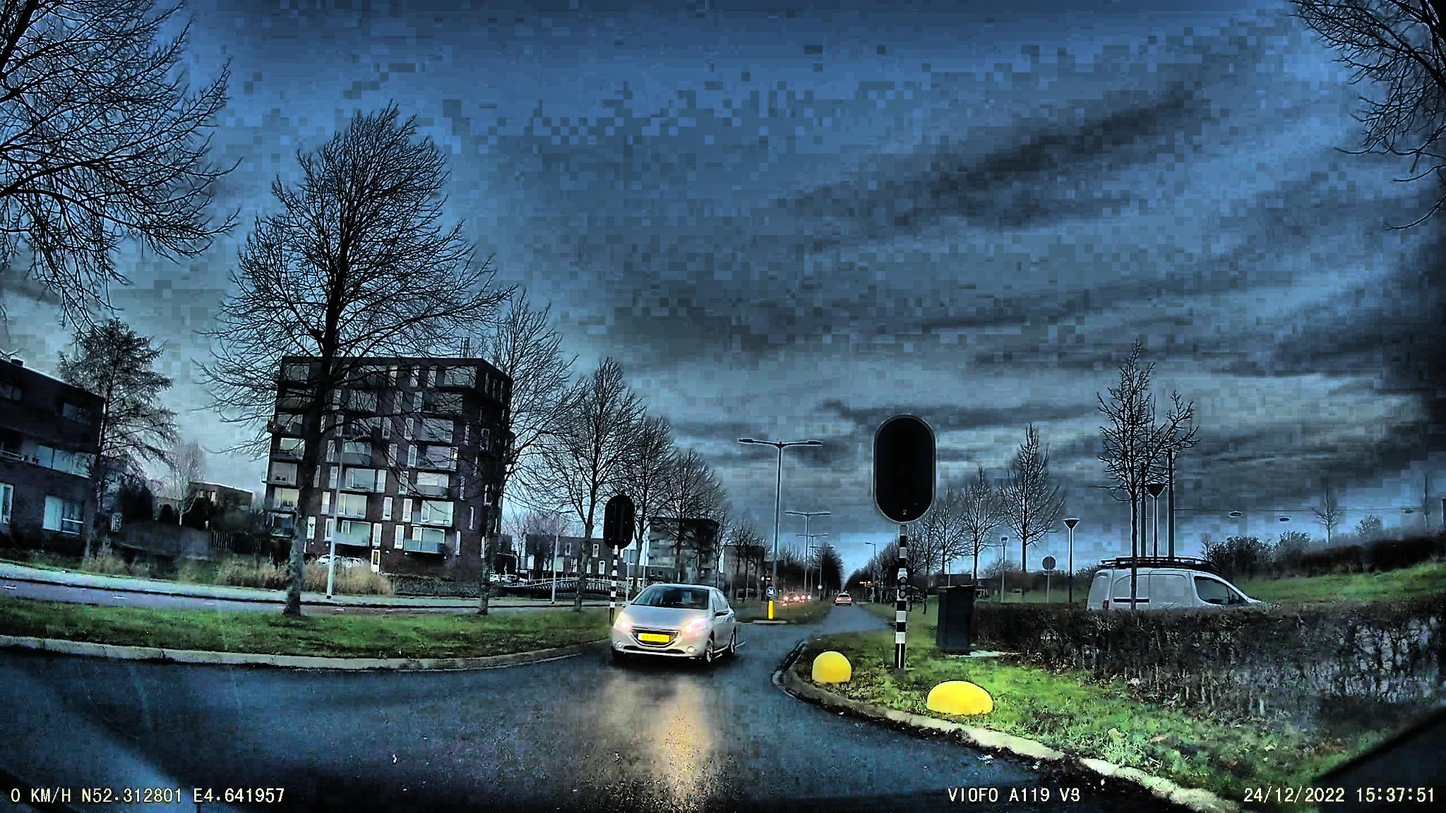Roads: (0, 624, 1194, 813)
